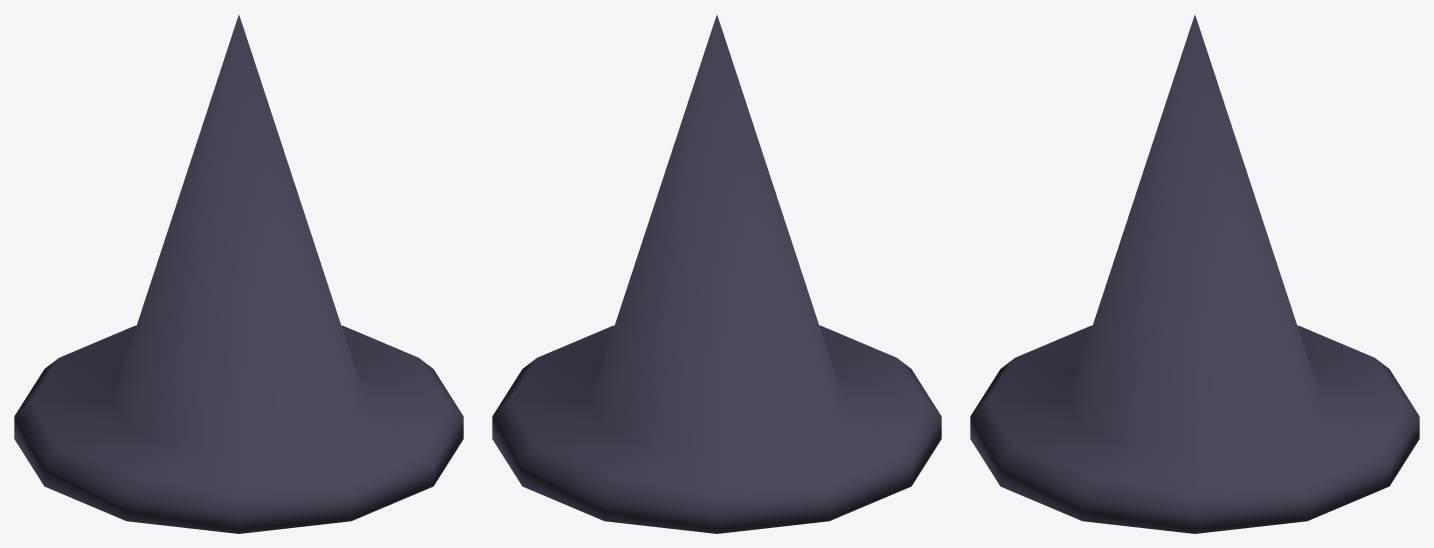
File: Hat.fbx
3 renders of one model, left to right at view 1: azimuth 30°, elevation 25°; view 2: azimuth 150°, elevation 25°; view 3: azimuth 270°, elevation 25°, orthographic.
Parts seen in each view (by area): view 1: Hat; view 2: Hat; view 3: Hat.
Part boxes in pixels (box(x1,y1,x2,y2)): Hat: box(14, 15, 463, 533); Hat: box(492, 15, 941, 533); Hat: box(970, 15, 1419, 533).
Size of the model in its own units: 162 by 169 by 162.
